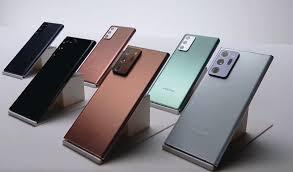Smartphone: (165, 43, 273, 172), (68, 41, 163, 169), (20, 35, 90, 121), (150, 25, 212, 113), (0, 20, 78, 79), (78, 18, 133, 89)
